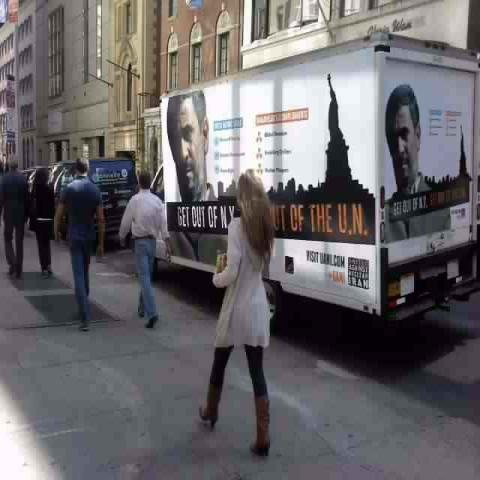car: (51, 152, 141, 250), (20, 161, 60, 230)
truck: (153, 35, 478, 330)
